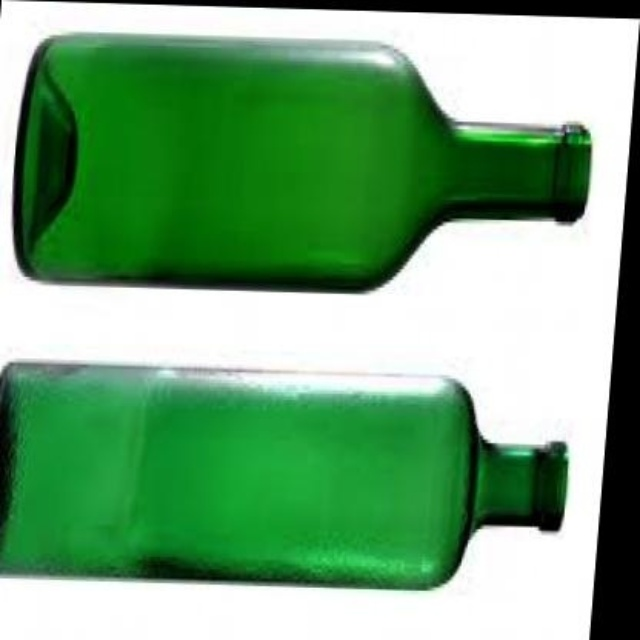trash: (14, 34, 589, 289), (0, 363, 566, 588)
